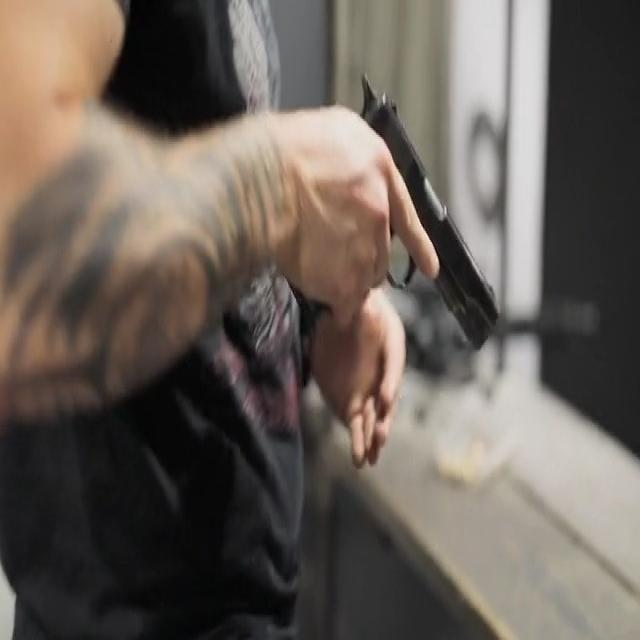Gun_Holder: (281, 62, 523, 426)
